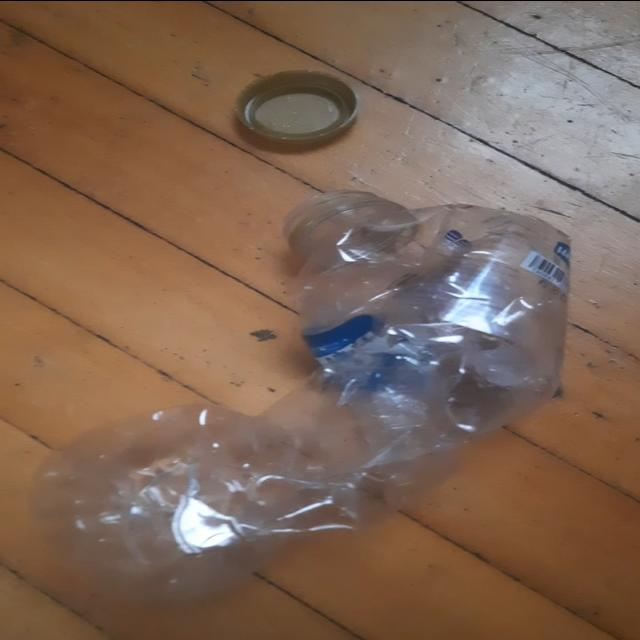Plastic: (26, 197, 572, 601), (236, 69, 361, 151)
